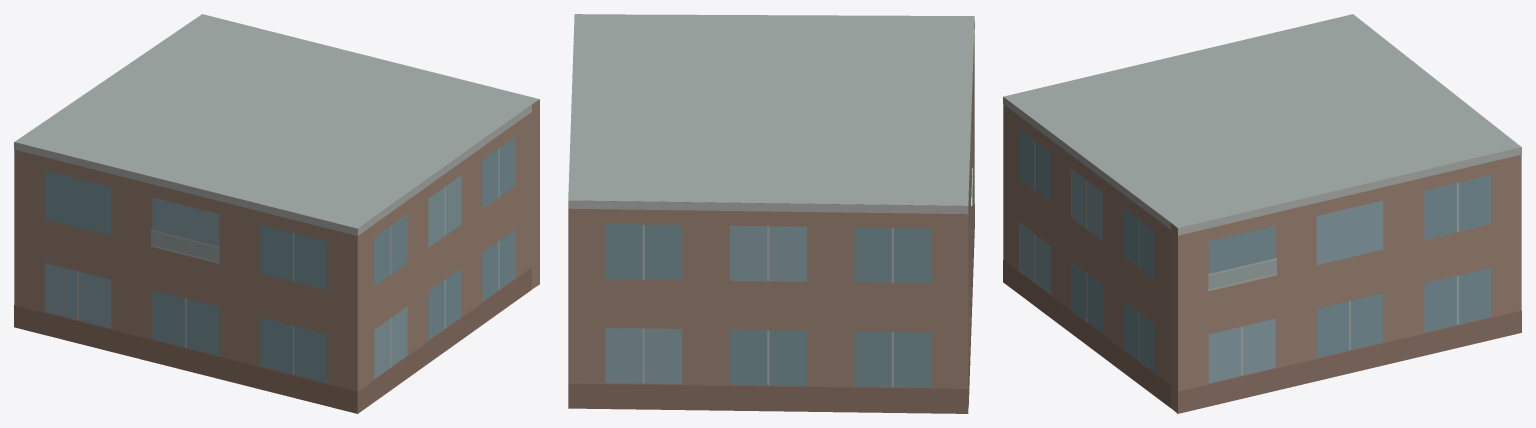
The model's file is survey-upis-32612903.glb.
3 views of the same model, side by side, from view 1: azimuth 30°, elevation 25°; view 2: azimuth 150°, elevation 25°; view 3: azimuth 270°, elevation 25° (orthographic). The views are drawn at different scales.
Parts seen in each view (by area): view 1: survey-upis-32612903.tmp; view 2: survey-upis-32612903.tmp; view 3: survey-upis-32612903.tmp.
Boxes of the visible parts, x1,y1,x2,y2 form: survey-upis-32612903.tmp: (14, 14, 539, 413); survey-upis-32612903.tmp: (568, 14, 974, 413); survey-upis-32612903.tmp: (1003, 14, 1521, 413).
Size of the model in its own units: 15.11 by 6.1 by 15.46.
